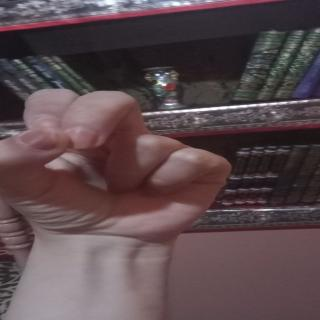QAAF: (0, 88, 252, 246)
